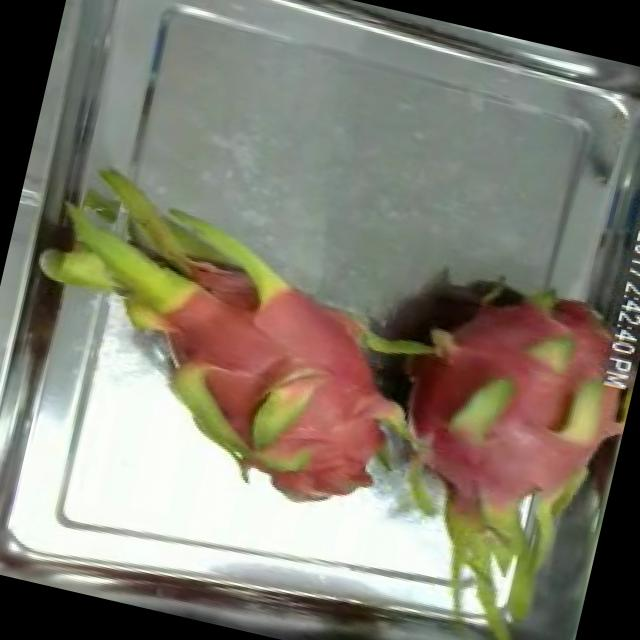Fruit: (229, 334, 428, 532)
